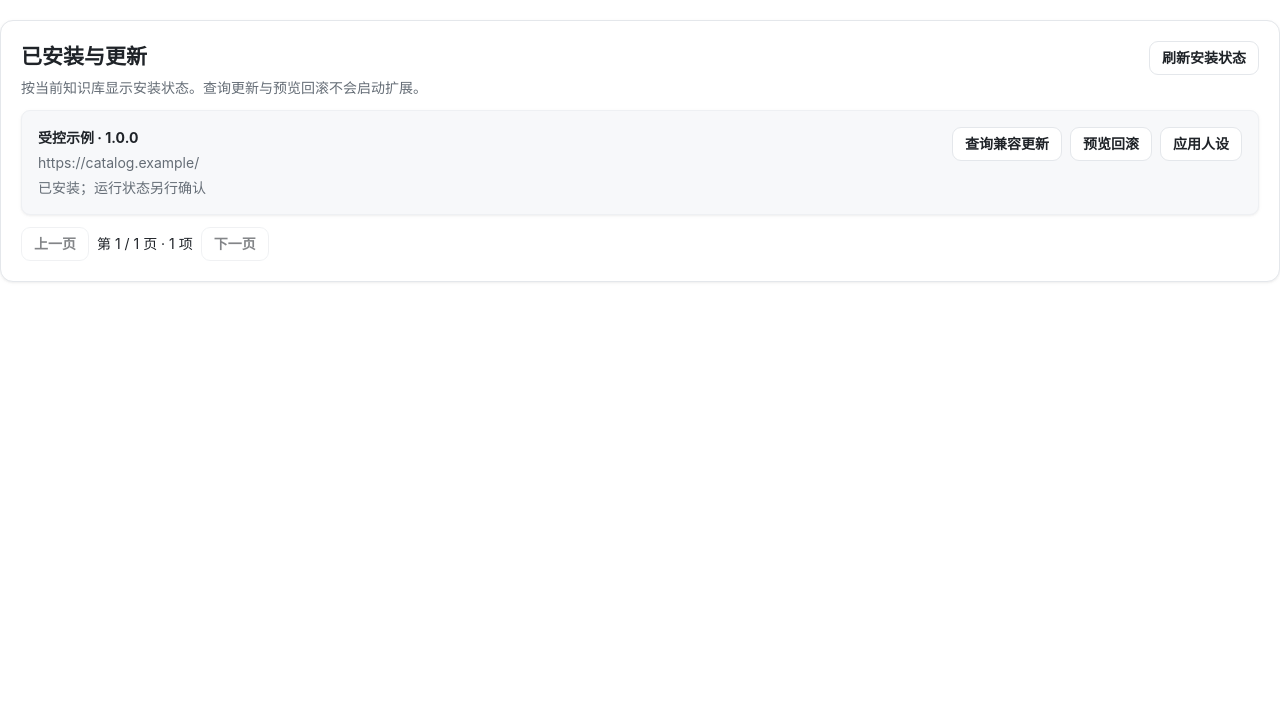
Test: reads a sealed native rollback preview and keeps it separate from confirmation
Click the button "预览回滚".
click(1111, 144)  # box x1=1070 y1=126 x2=1152 y2=160
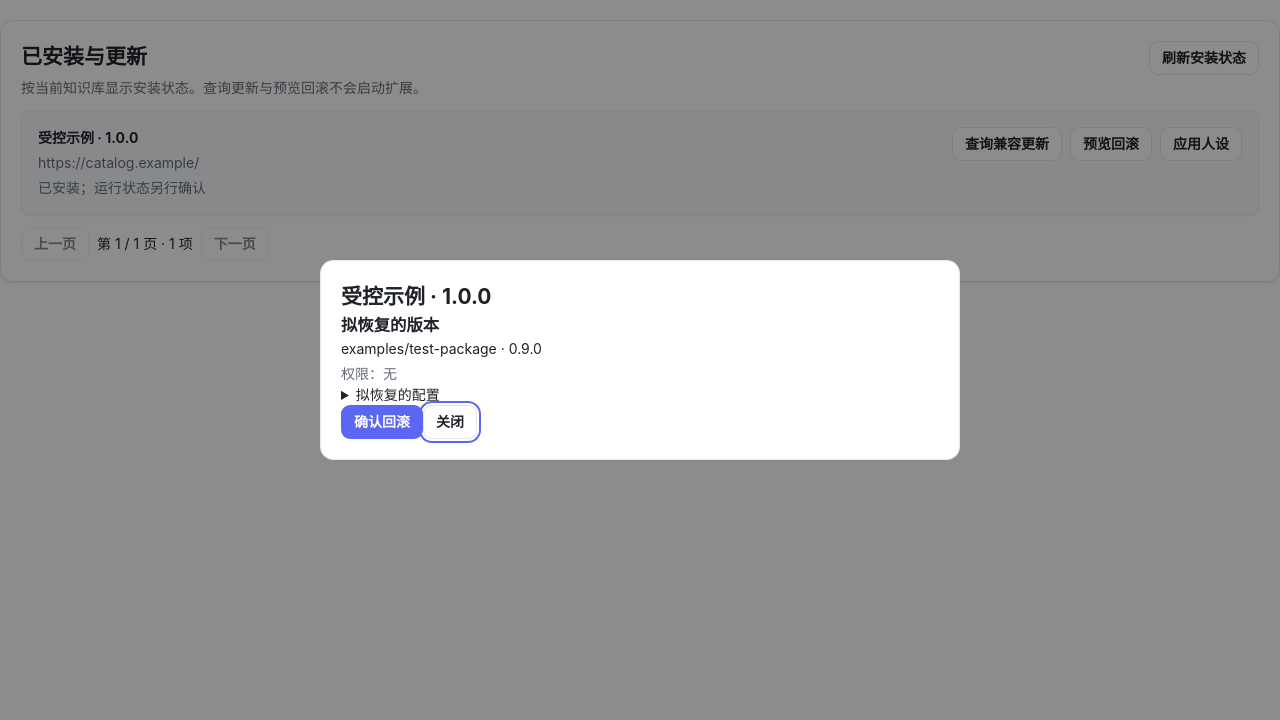
Check: the text "0.9.0" is shown, box x1=341 y1=340 x2=542 y2=356
